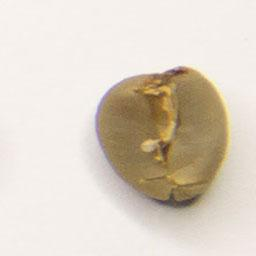premium: (91, 63, 232, 205)
